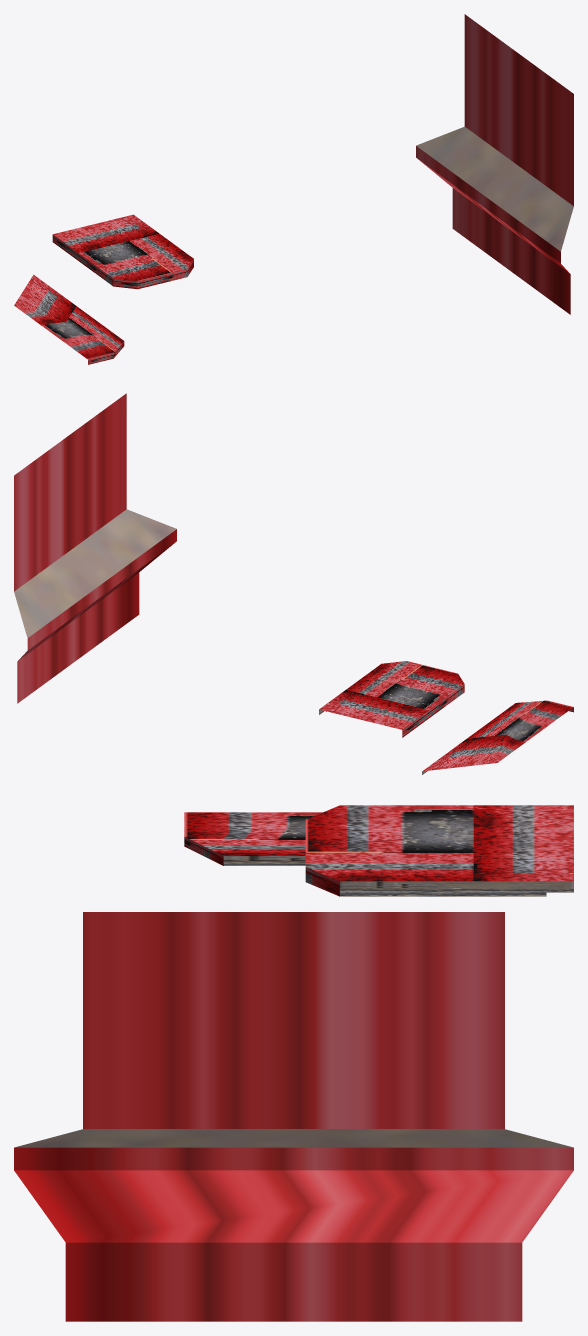
The model's file is Inneneinrichtung.fbx.
3 views of the same model, one above another, from view 1: azimuth 30°, elevation 25°; view 2: azimuth 150°, elevation 25°; view 3: azimuth 270°, elevation 25° (orthographic). The views are drawn at different scales.
Parts seen in each view (by area): view 1: Object001; view 2: Object001; view 3: Object001.
Boxes of the visible parts, box(x1,y1,x2,y2) form: Object001: box(14, 14, 573, 364); Object001: box(14, 393, 573, 774); Object001: box(14, 805, 573, 1321).
Bounding box in the file's own units: 446 × 200 × 243.
